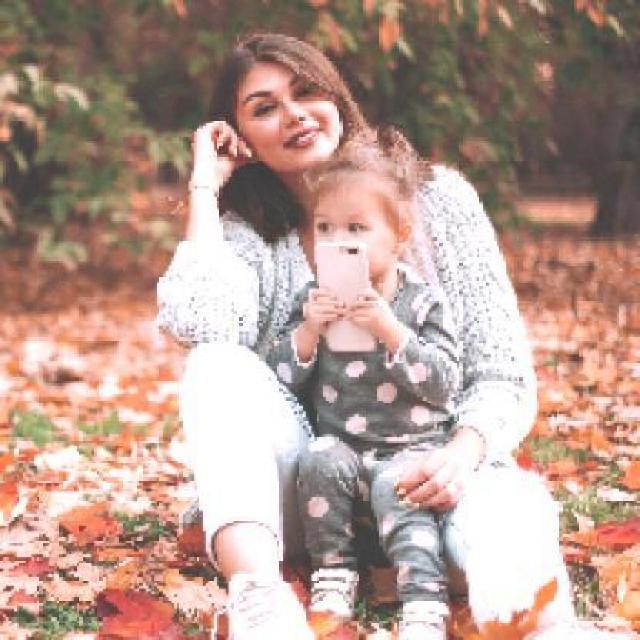child: (263, 125, 466, 638)
